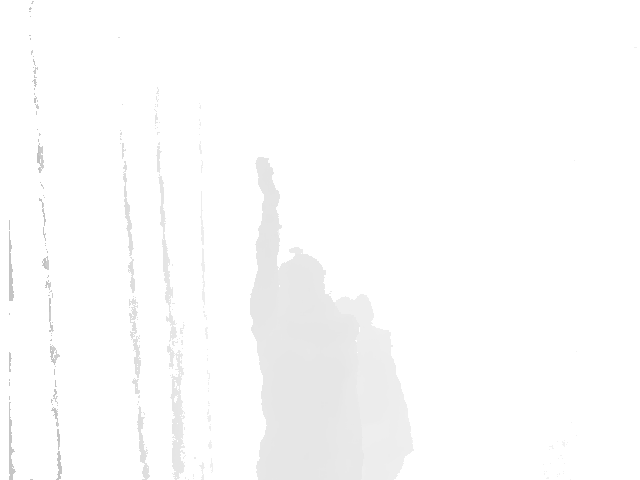hand: (253, 154, 283, 207)
head: (274, 250, 328, 306), (336, 290, 375, 333)
person: (248, 146, 362, 480), (333, 283, 412, 480)
